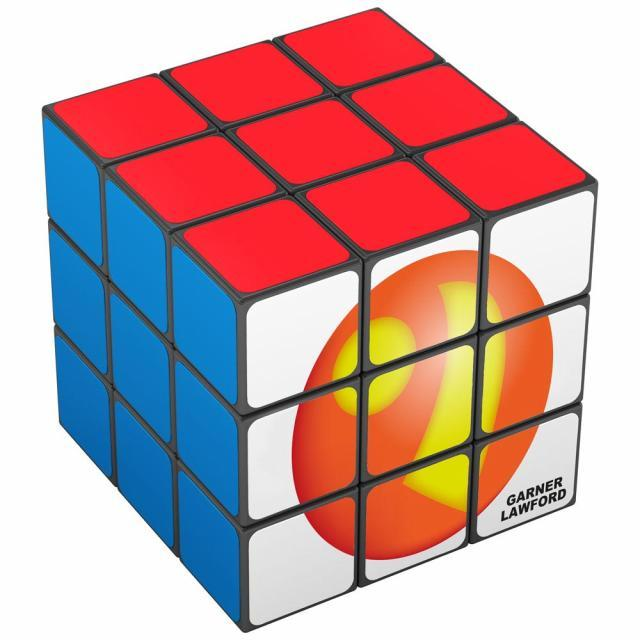Rub: (40, 4, 599, 630)
